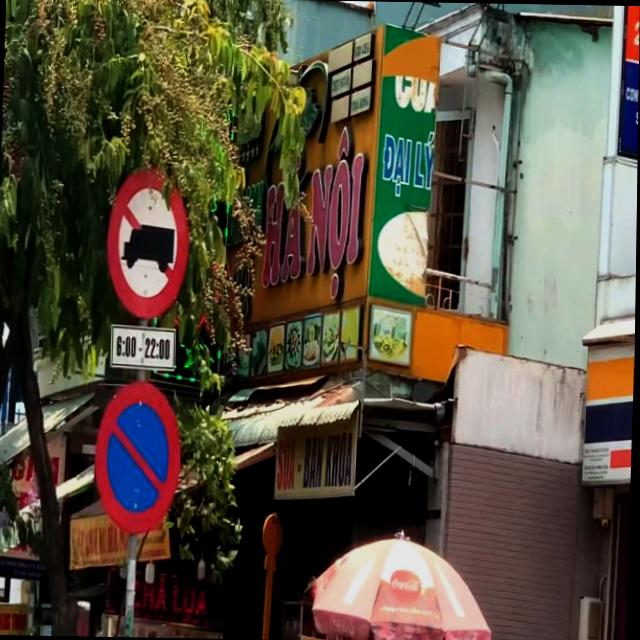Cam do xe: (93, 378, 186, 537)
Cam xe tai: (104, 166, 193, 320)
